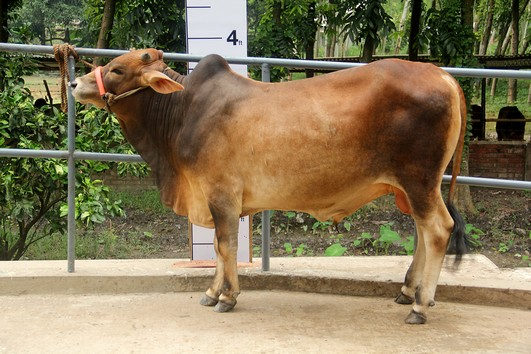cow: (60, 37, 474, 329)
